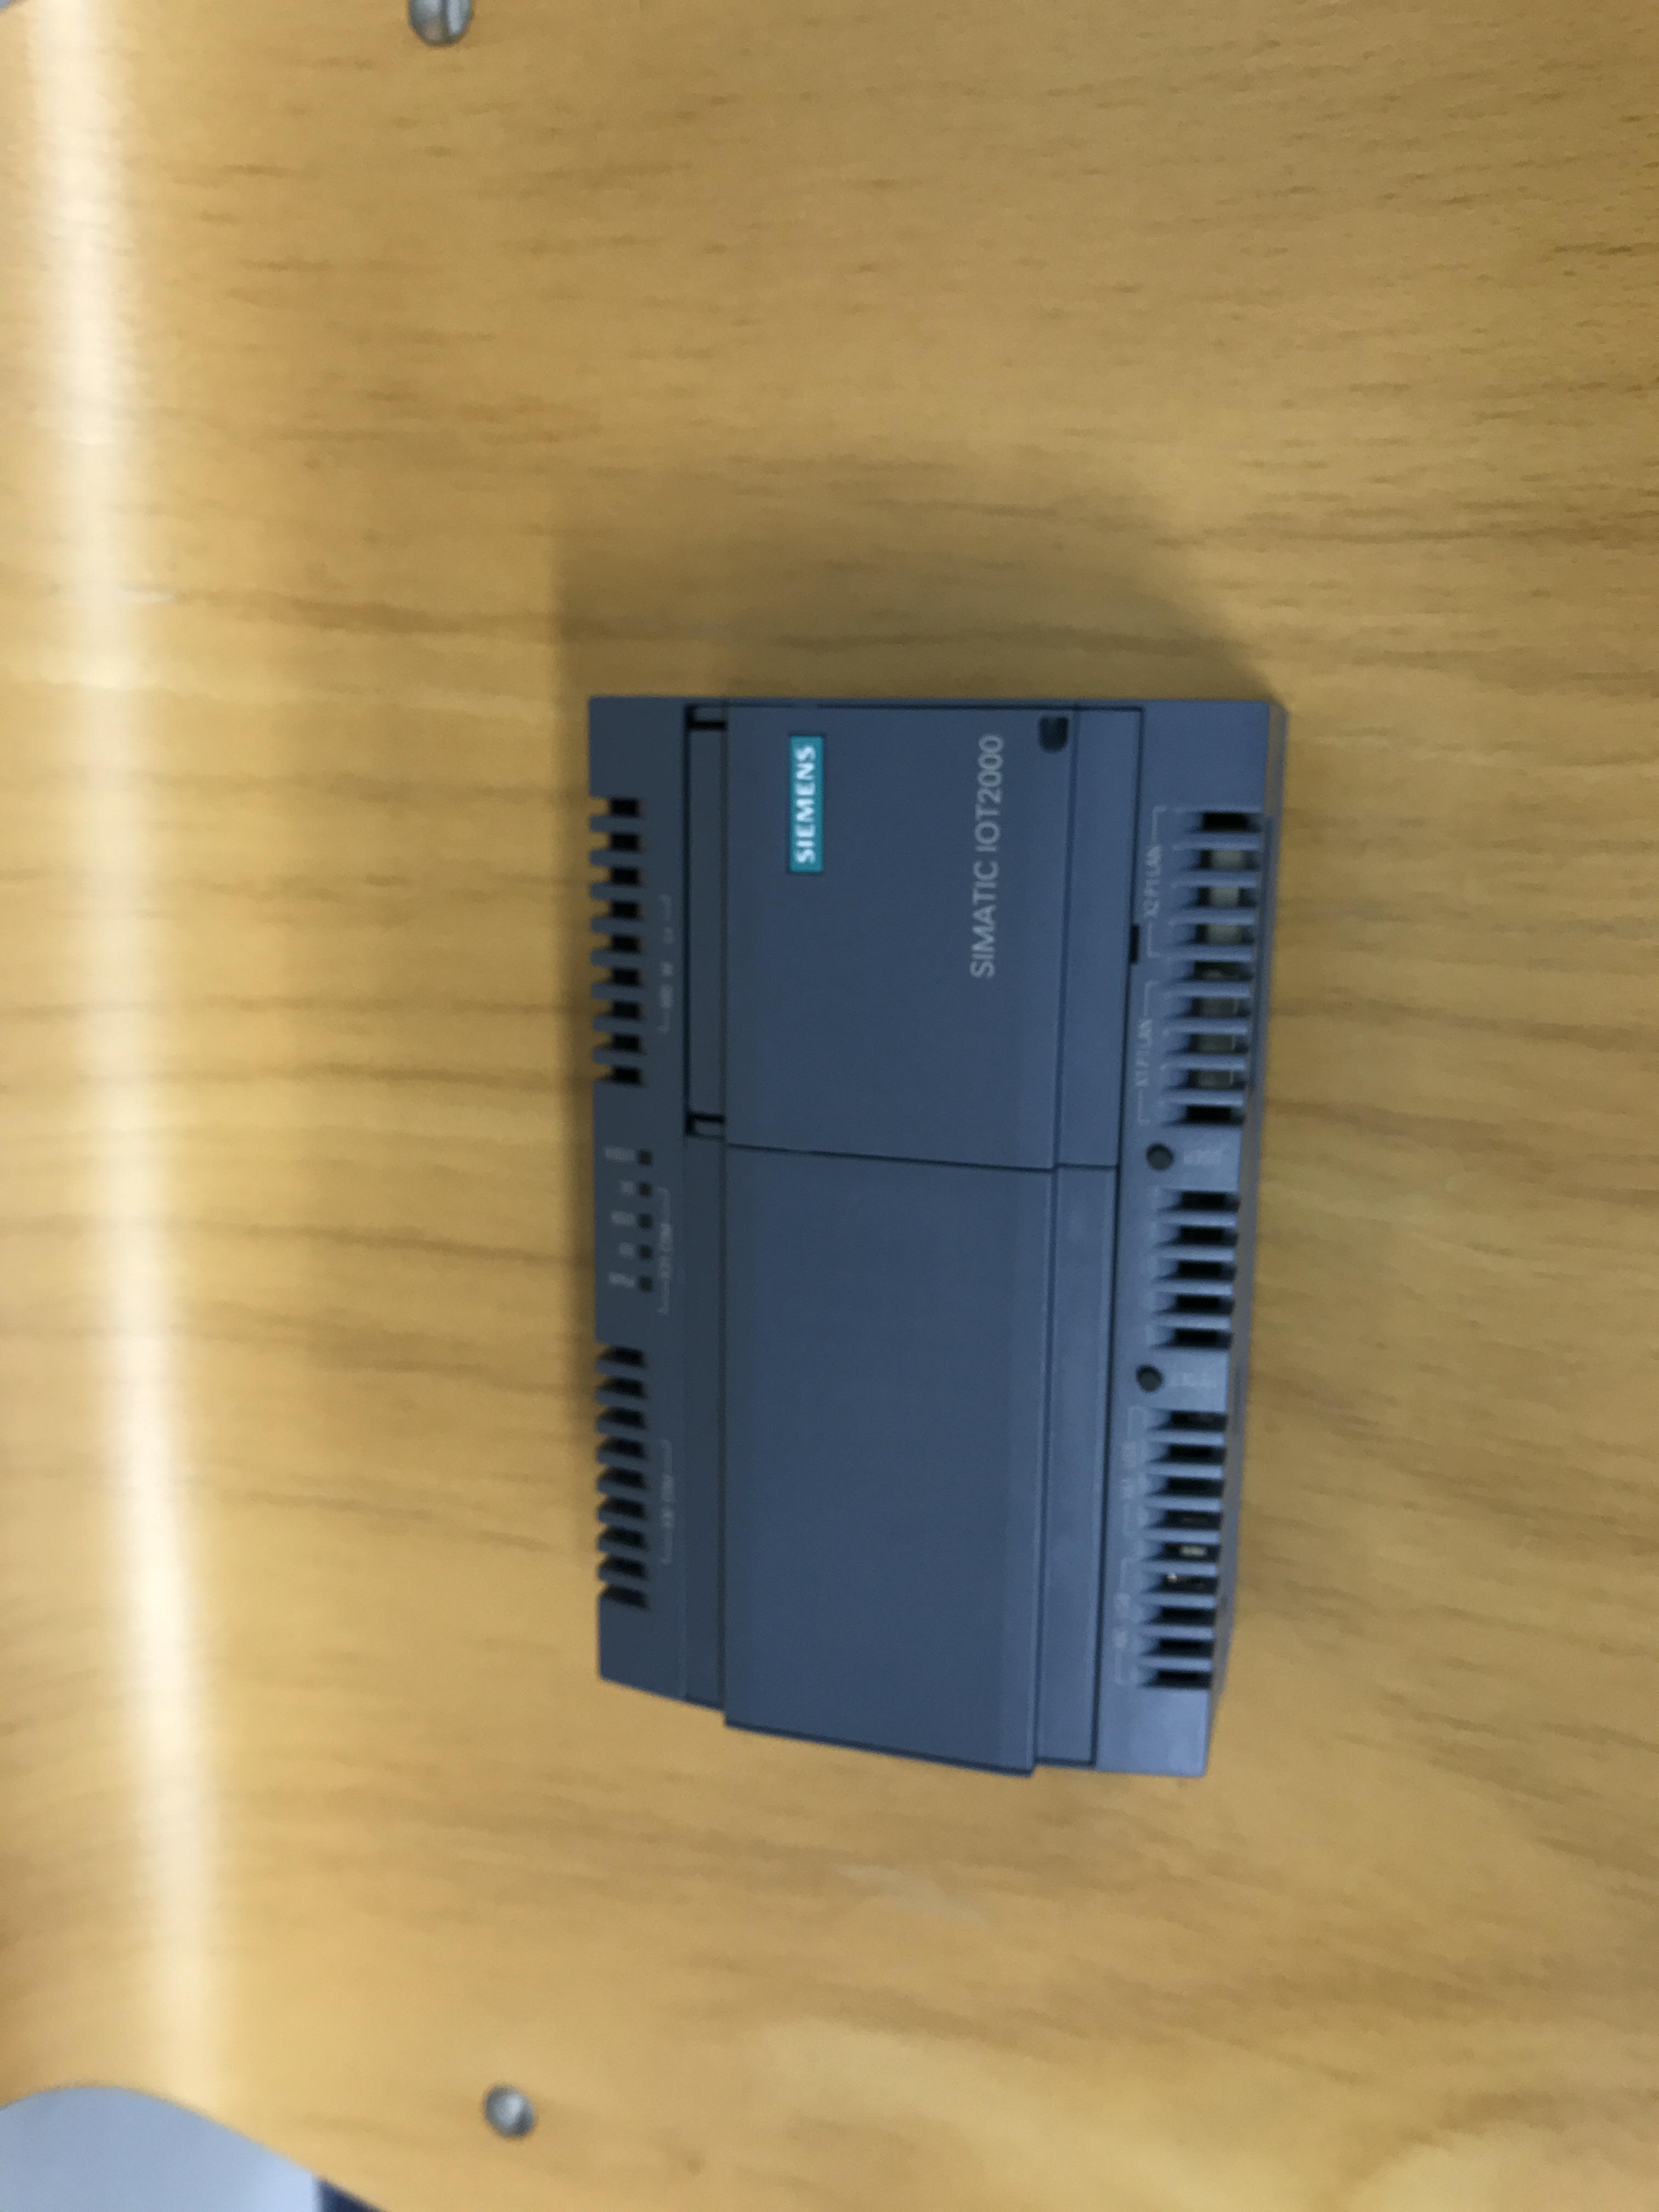device: (587, 693, 1290, 1782)
